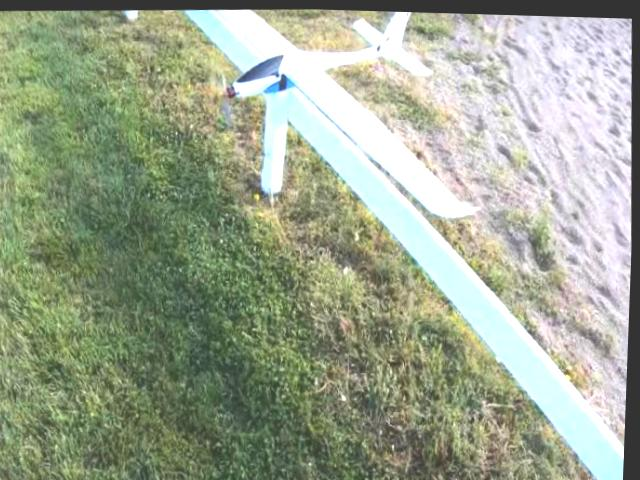iha: (185, 4, 485, 223)
